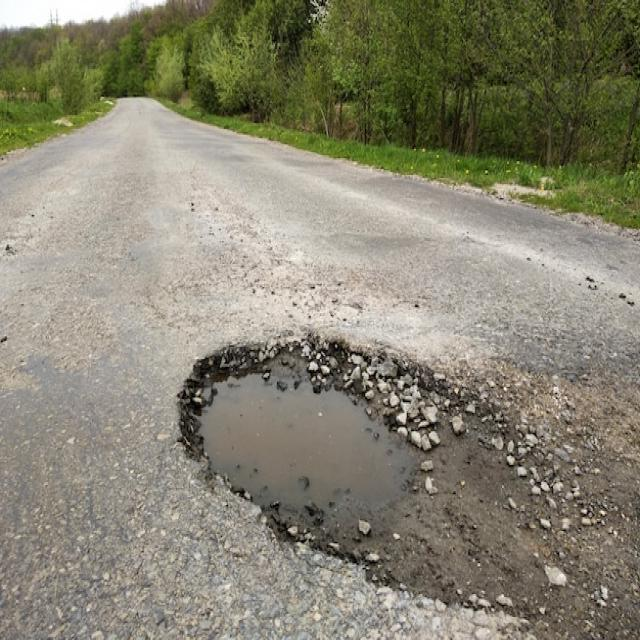Pothole: (156, 321, 588, 620)
